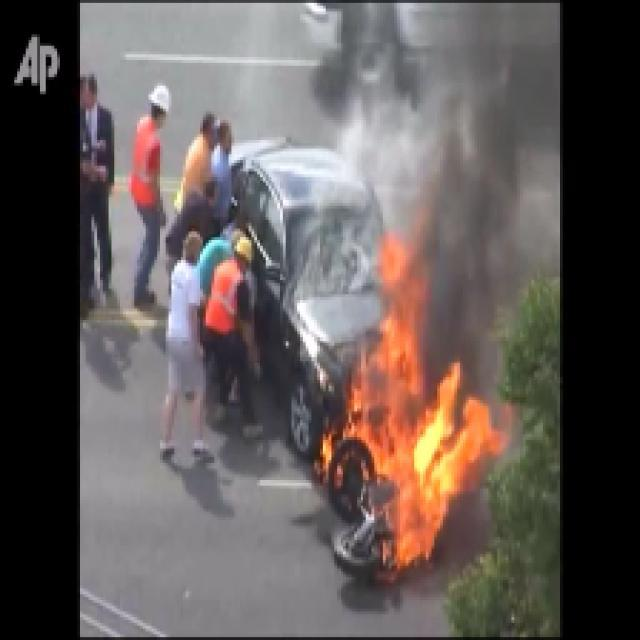Fire: (335, 374, 485, 544)
Smoke: (402, 63, 510, 360)
